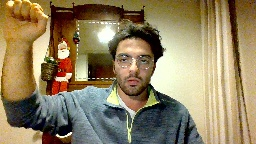Pugno: (0, 0, 49, 45)
